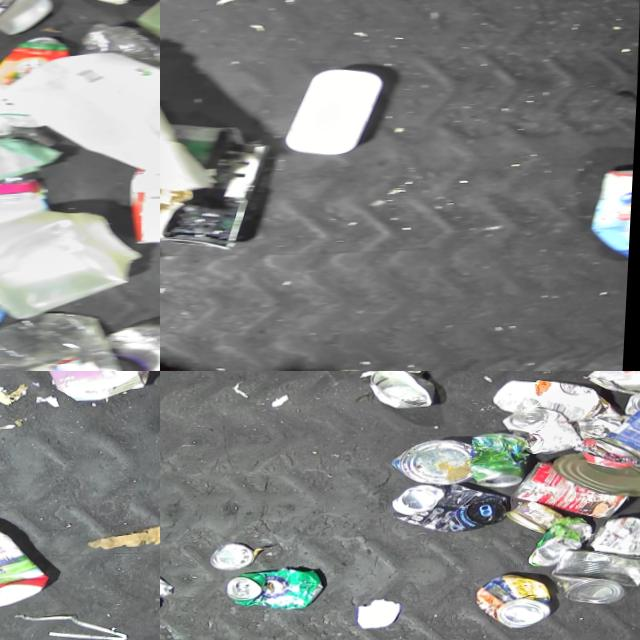can: (514, 459, 633, 522), (391, 482, 510, 535), (552, 547, 640, 606), (226, 567, 327, 612), (477, 575, 556, 630), (553, 451, 640, 499), (501, 408, 586, 457), (391, 439, 474, 487), (469, 434, 532, 490), (529, 518, 596, 568), (601, 397, 640, 469), (363, 371, 435, 410), (590, 515, 640, 566), (507, 500, 566, 536), (586, 371, 640, 397), (212, 543, 257, 570), (624, 392, 640, 416)
milk_jug: (0, 48, 160, 182), (0, 209, 148, 321)
non_white_jug: (0, 506, 55, 611), (16, 371, 159, 403)
plastic_bottle: (0, 309, 156, 371)
